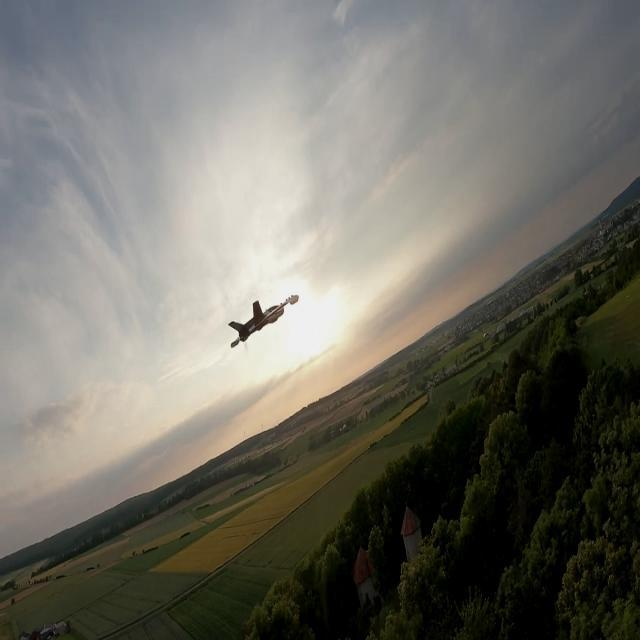iha: (255, 289, 260, 352)
